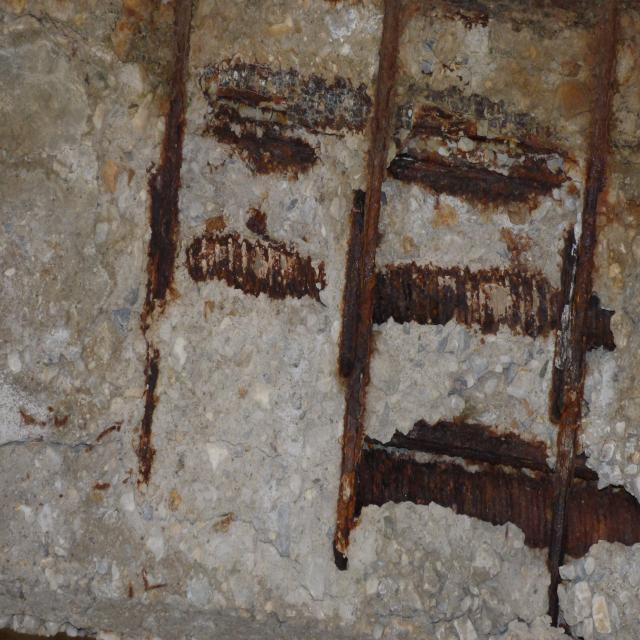corrosion: (126, 0, 640, 638), (20, 384, 124, 517), (1, 614, 105, 640)
